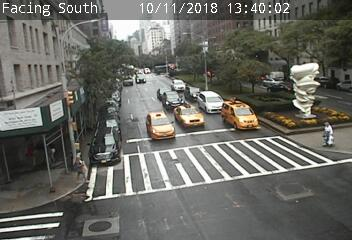car: (89, 127, 120, 166), (221, 100, 257, 131), (146, 112, 174, 141), (174, 104, 205, 129), (197, 91, 226, 114), (162, 91, 184, 111), (184, 86, 206, 102), (157, 87, 173, 101), (171, 80, 186, 92), (135, 74, 146, 84)
